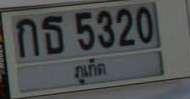txt01: (15, 18, 41, 59)
txt19: (40, 15, 64, 56)
